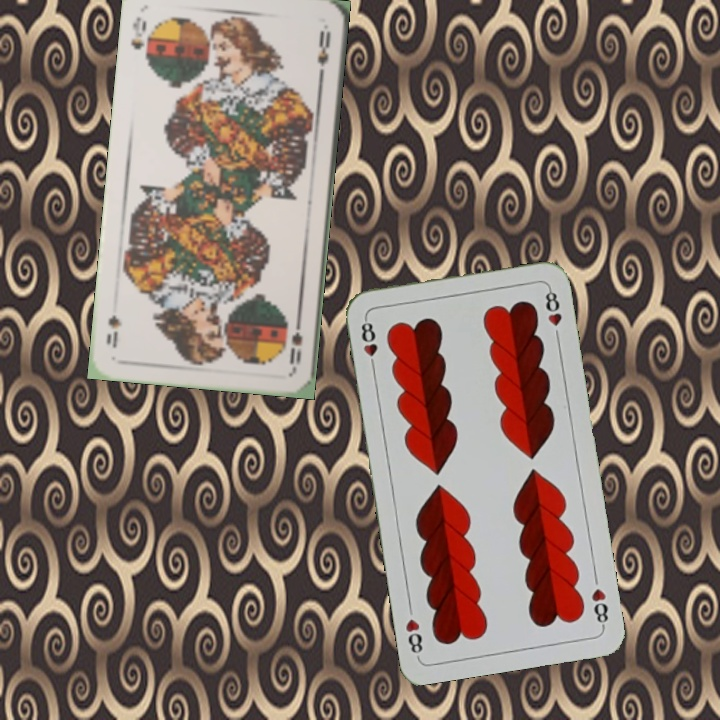H8: (357, 314, 380, 373), (587, 584, 611, 630)
SO: (126, 12, 153, 66), (285, 312, 305, 371)
